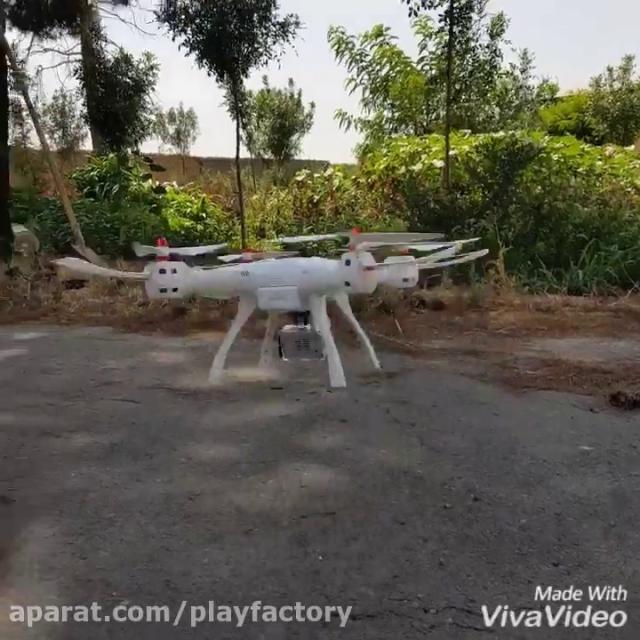drone: (48, 224, 492, 391)
